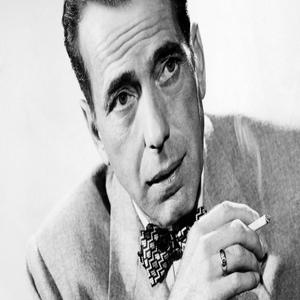cigarette: (244, 213, 271, 236)
